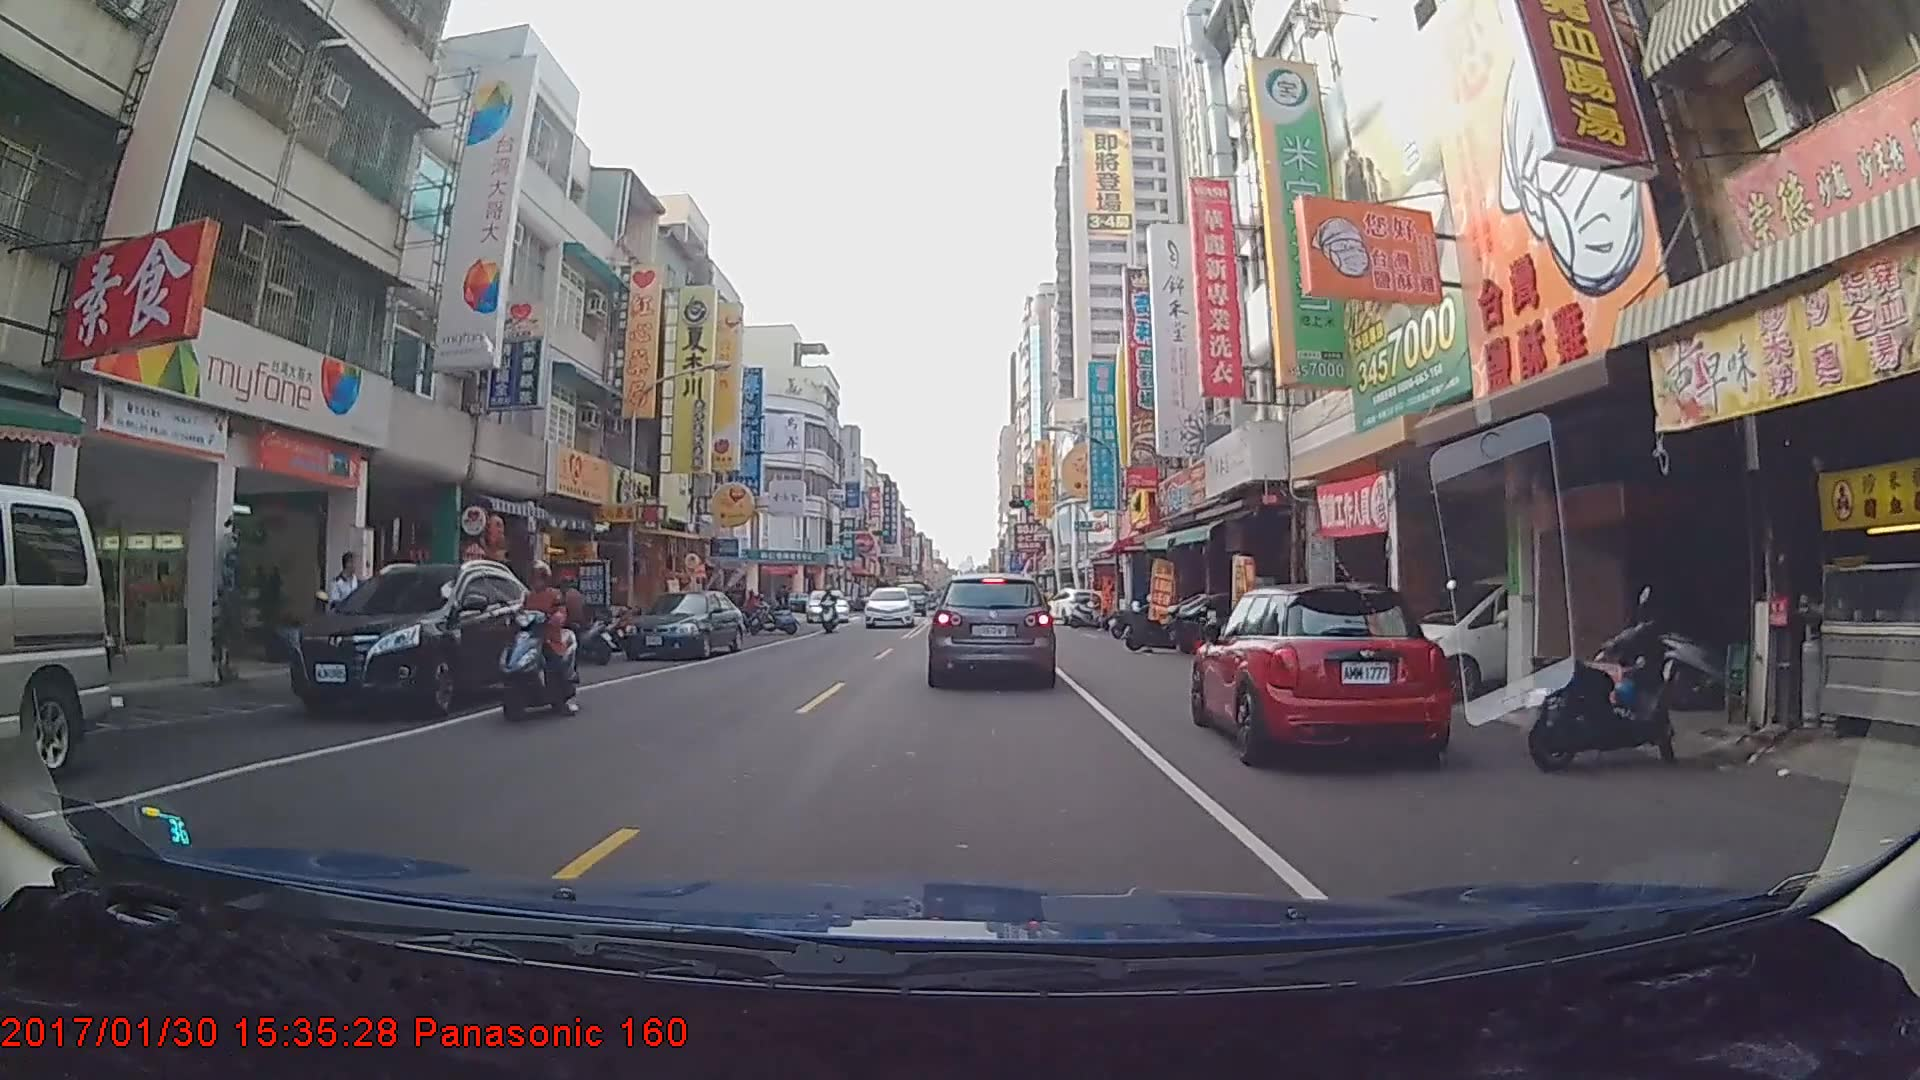rider: (492, 556, 581, 722), (817, 581, 844, 632)
vehicle: (1189, 579, 1449, 762), (287, 557, 546, 719), (0, 480, 111, 776), (927, 570, 1055, 685), (617, 587, 743, 657), (861, 584, 915, 626), (1040, 581, 1098, 620), (804, 585, 847, 618)
